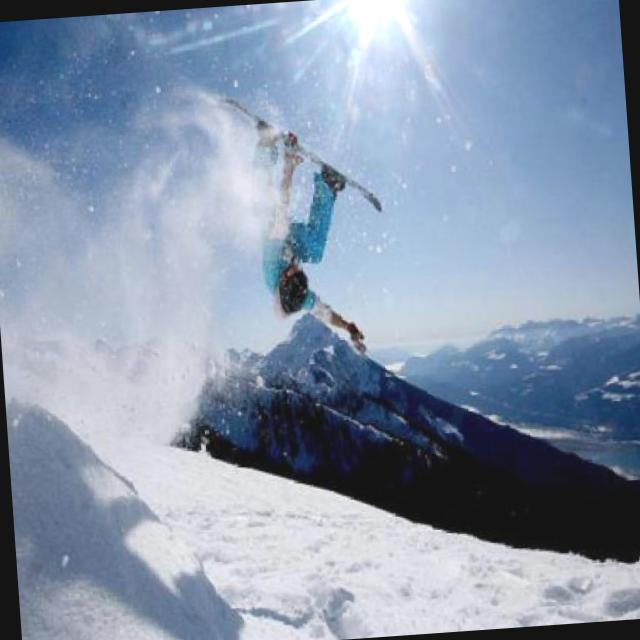Person: (244, 117, 370, 358)
